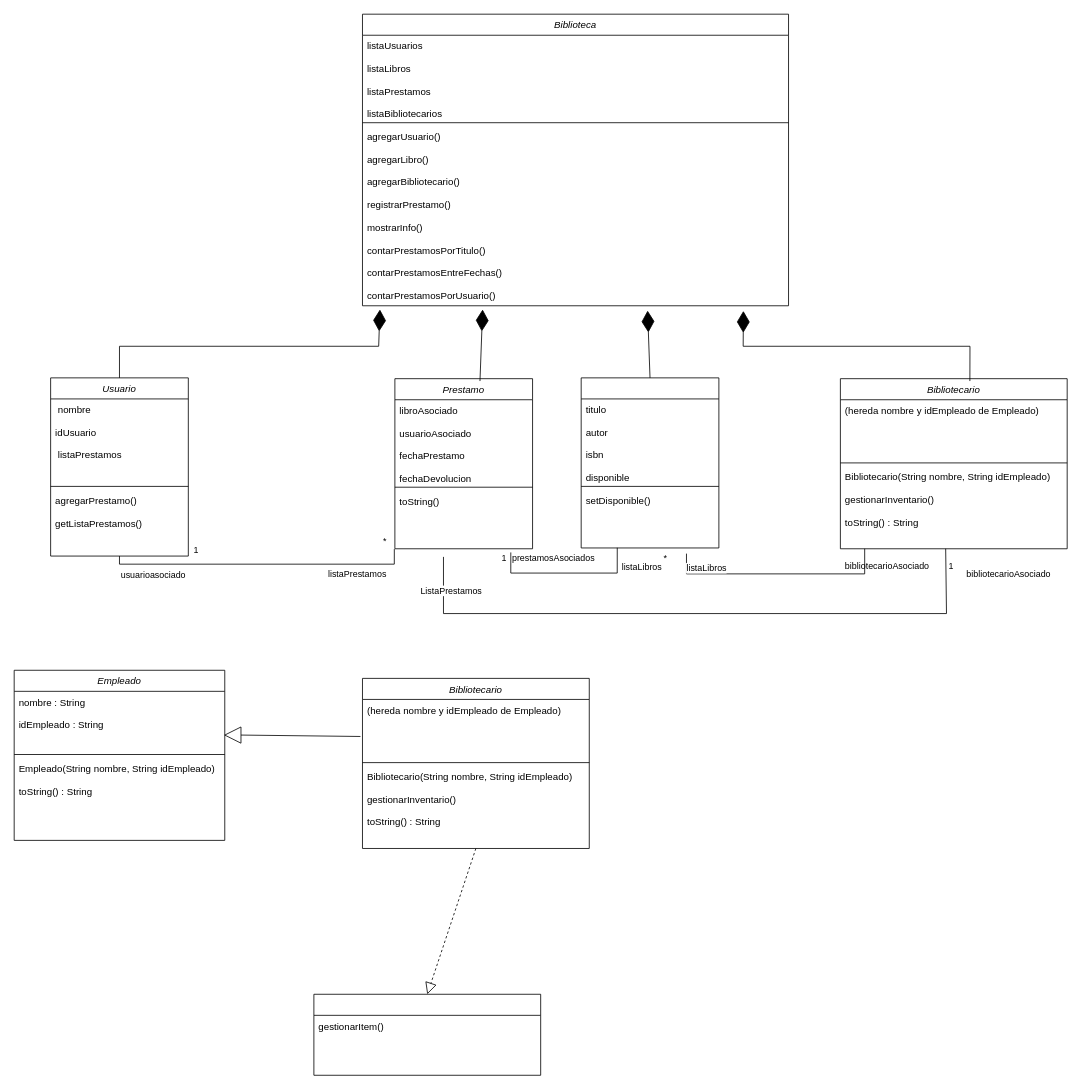
The diagram is 1081 pixels wide and 1092 high, and some of its shapes have lost their labels. The box of each missing label's shape, as (x1, y1, x2, y2) in pixels:
IGestionInventario: (313, 993, 541, 1075)
Libro: (580, 377, 719, 548)
